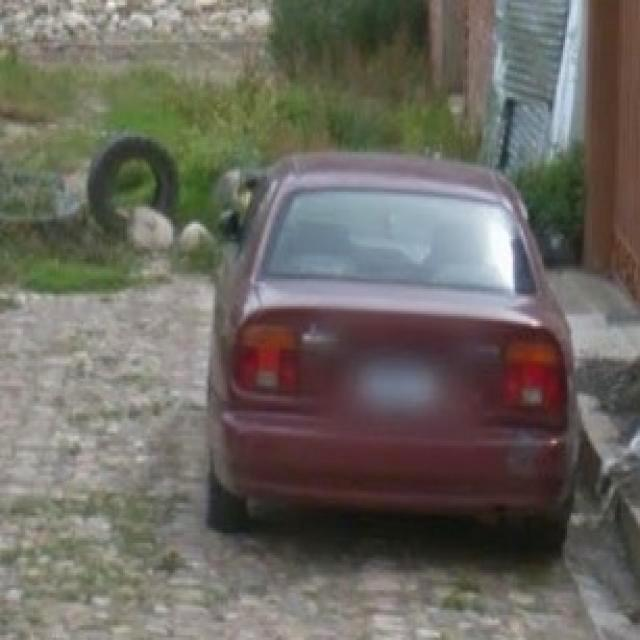Car: (208, 154, 590, 558)
